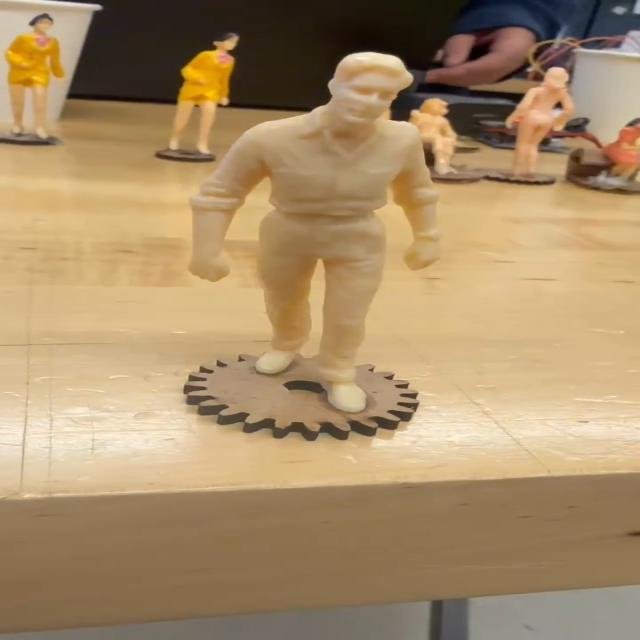Unauthorized: (199, 43, 455, 410)
